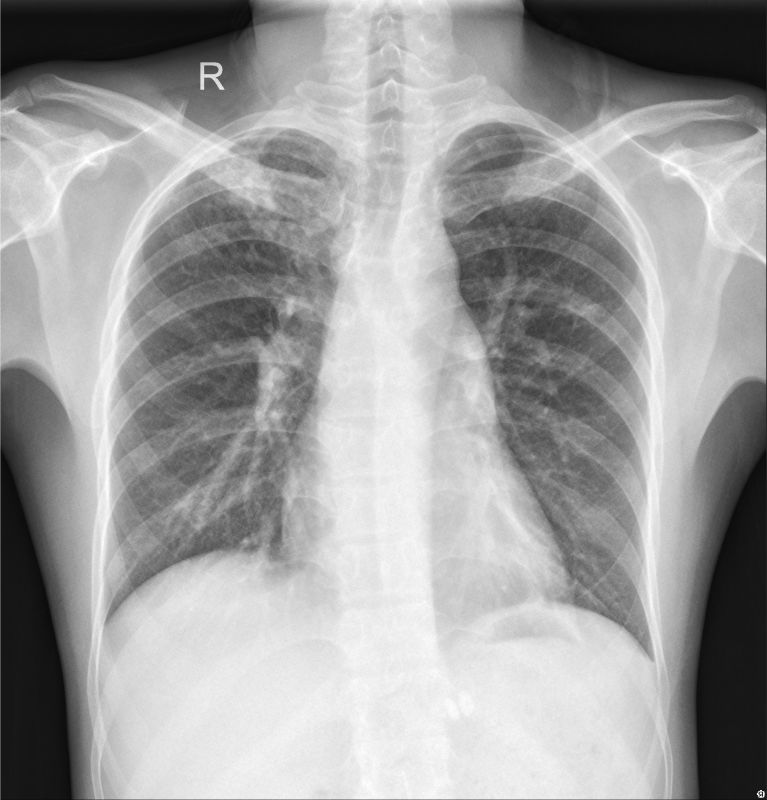Tuberculosis (TB): (219, 148, 305, 258)
